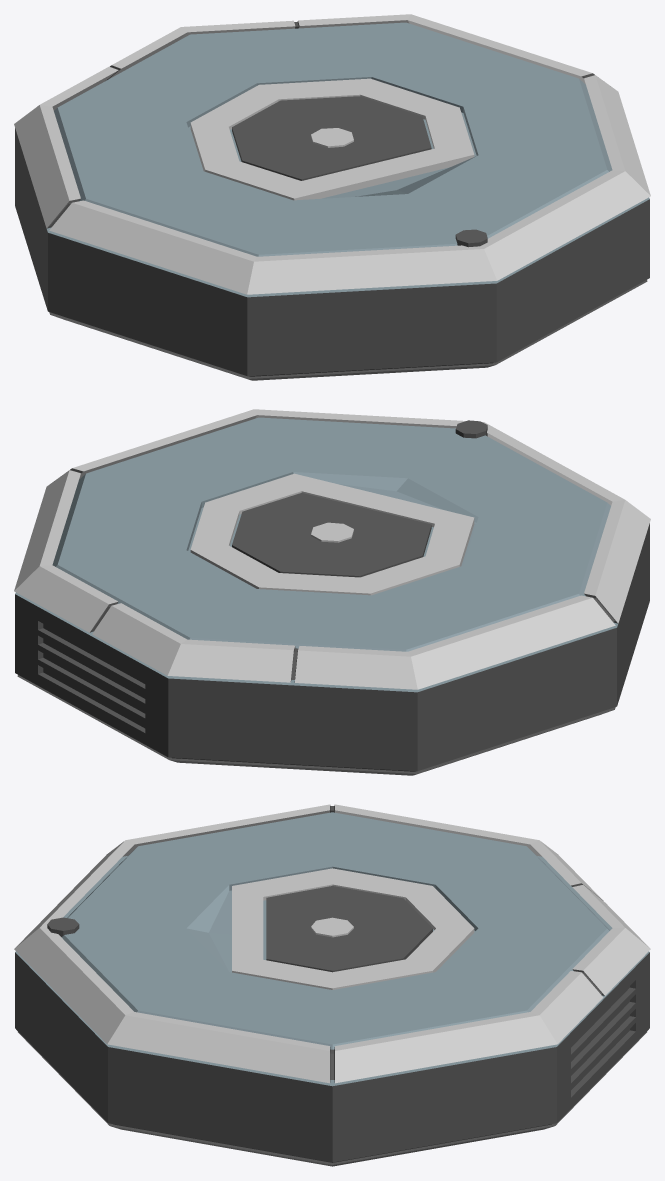
3 views of the same model, one above another, from view 1: azimuth 30°, elevation 25°; view 2: azimuth 150°, elevation 25°; view 3: azimuth 270°, elevation 25° (orthographic). The views are drawn at different scales.
Parts seen in each view (by area): view 1: Roomba_Circle.003; view 2: Roomba_Circle.003; view 3: Roomba_Circle.003.
Boxes of the visible parts, x1,y1,x2,y2 form: Roomba_Circle.003: (14,14,650,380); Roomba_Circle.003: (14,409,650,775); Roomba_Circle.003: (14,804,650,1166).
Size of the model in its own units: 10.62 by 2.14 by 10.66.
